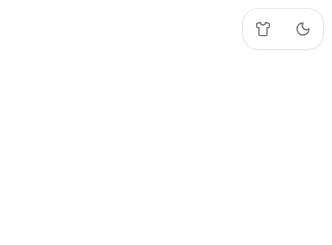
Test case: SessionThemeControl › opens the style options, chooses one and closes them
The image size is (332, 245).
expect the text "UI Theme Style" is not shown: met
Click the button named "Switch UI Theme Style" at point(263, 29), box [243,9,283,49]
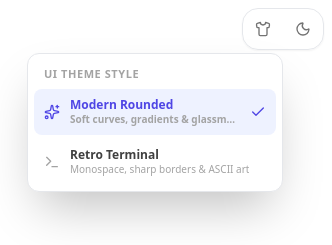
expect the text "UI Theme Style" is shown: met, box [44,66,139,81]
Click the button "Retro Terminal Monospace, sharp borders & ASCII art" at point(155, 162), box [34,138,276,184]
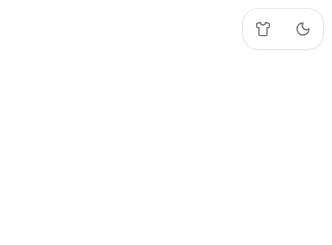
expect the text "UI Theme Style" is gone: met
